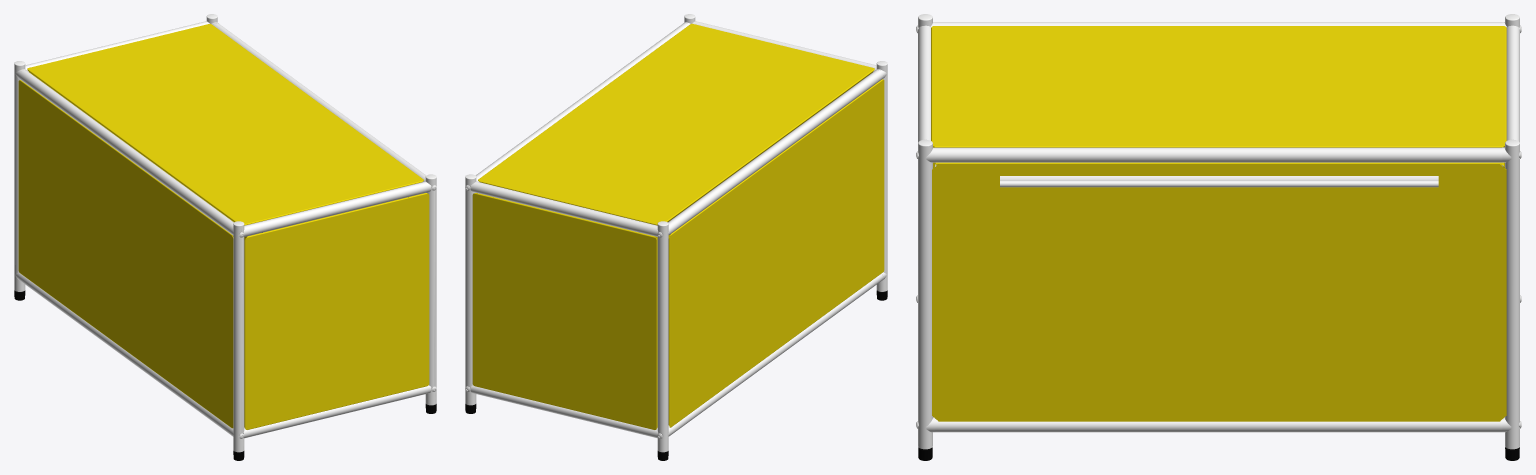
Rendered from 80x40x40-1-4-yellow_optimized_optimized.glb.
3 views of the same model, side by side, from view 1: azimuth 30°, elevation 25°; view 2: azimuth 150°, elevation 25°; view 3: azimuth 270°, elevation 25° (orthographic). The views are drawn at different scales.
Parts seen in each view (by area): view 1: 直角鐵板-80x40-5 - 零件, new-上塞-1 - 零件; view 2: 直角鐵板-80x40-5 - 零件, new-上塞-1 - 零件; view 3: 直角鐵板-80x40-5 - 零件, new-上塞-1 - 零件.
Part boxes in pixels (<box>): 直角鐵板-80x40-5 - 零件: <box>18,23,429,429</box>; new-上塞-1 - 零件: <box>14,14,436,452</box>; 直角鐵板-80x40-5 - 零件: <box>472,23,884,429</box>; new-上塞-1 - 零件: <box>465,14,887,452</box>; 直角鐵板-80x40-5 - 零件: <box>931,26,1506,421</box>; new-上塞-1 - 零件: <box>916,14,1521,449</box>.
Bounding box in the file's own units: 0.4198 × 0.4453 × 0.7732.
